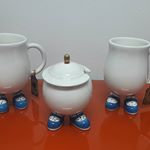cups: (40, 52, 96, 117), (1, 31, 48, 99), (102, 34, 150, 98)
